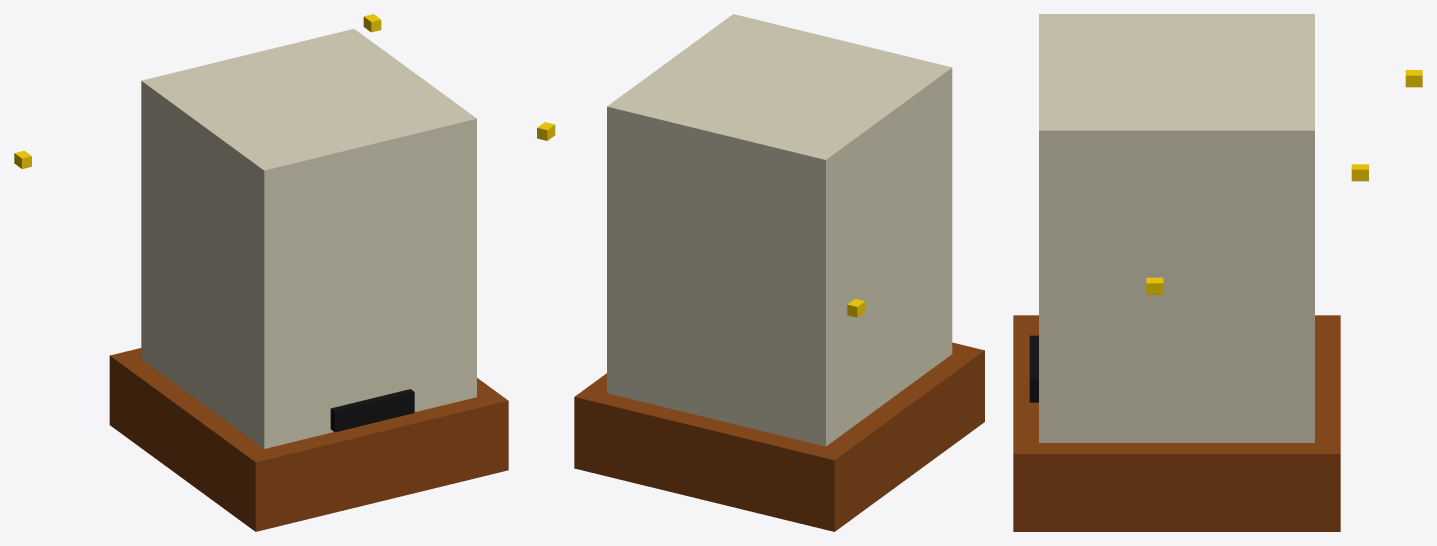
The model's file is beehive.glb.
3 views of the same model, side by side, from view 1: azimuth 30°, elevation 25°; view 2: azimuth 150°, elevation 25°; view 3: azimuth 270°, elevation 25° (orthographic). The views are drawn at different scales.
Visible parts, largest first — view 1: beehive; view 2: beehive, bee_group; view 3: beehive, bee_group.
Boxes of the visible parts, x1,y1,x2,y2 form: beehive: (109, 29, 508, 531); beehive: (574, 14, 984, 531); bee_group: (537, 122, 865, 317); beehive: (1013, 14, 1340, 531); bee_group: (1146, 70, 1422, 294).
Bounding box in the file's own units: 0.5039 × 0.5 × 0.4752.
